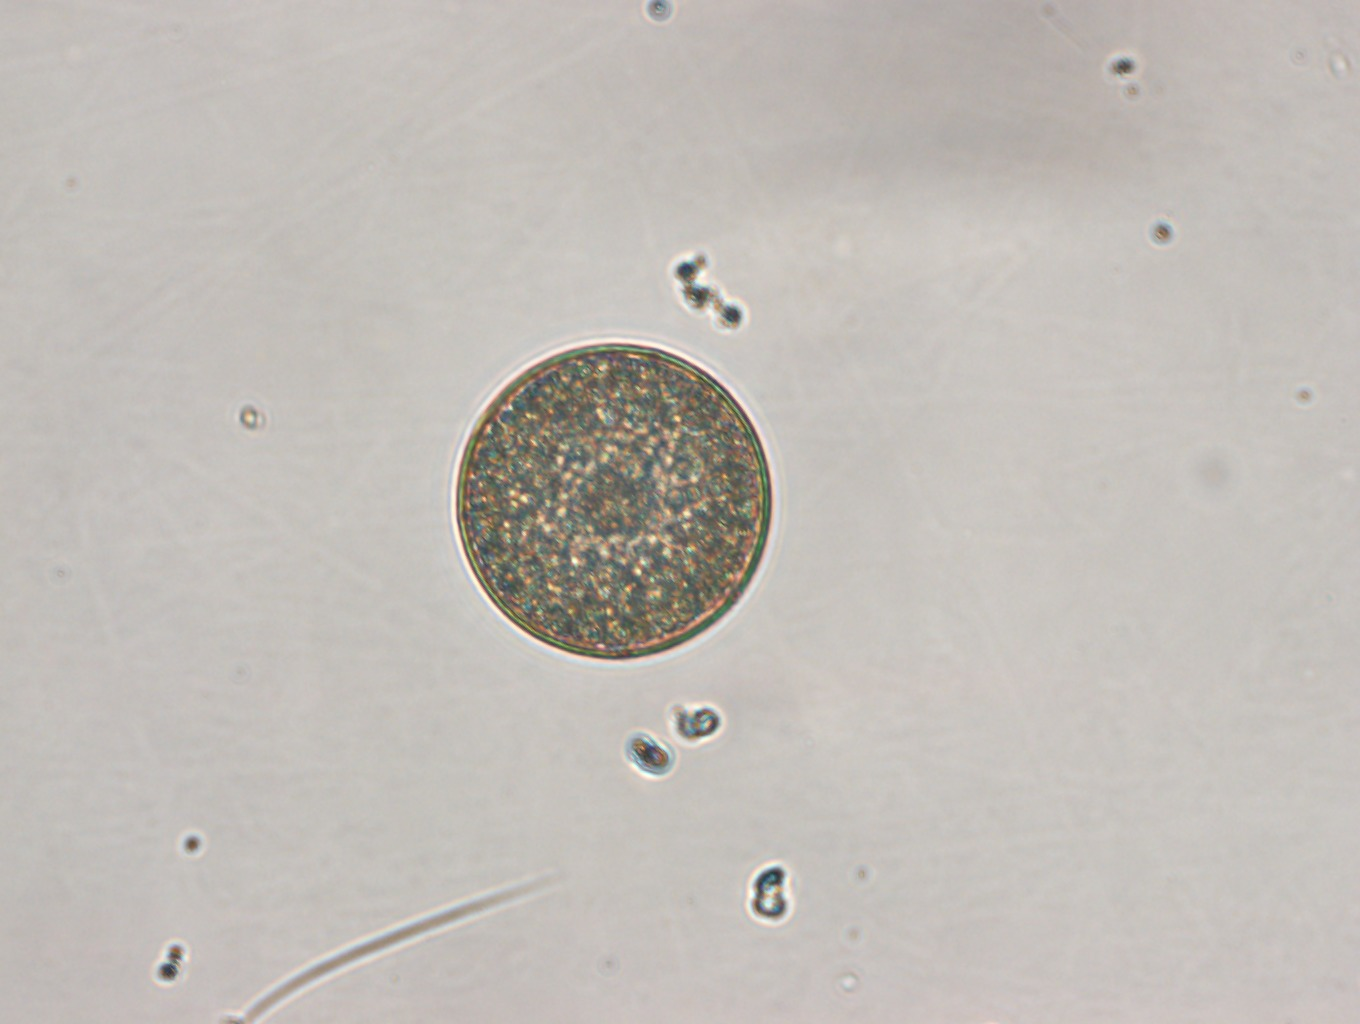coscinodiscus: (450, 333, 775, 659)
